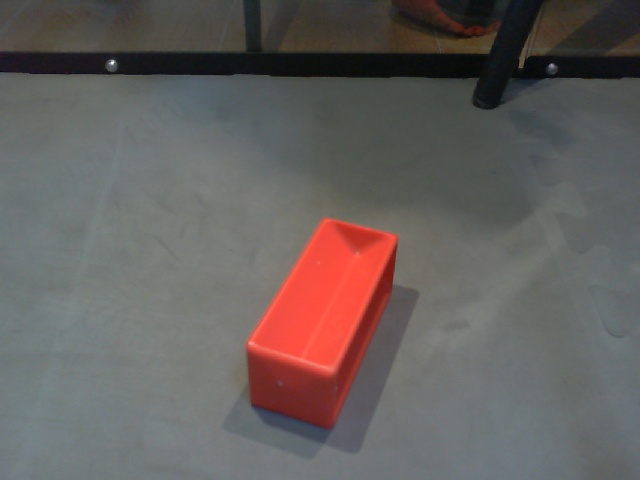RedSample: (243, 213, 402, 435)
